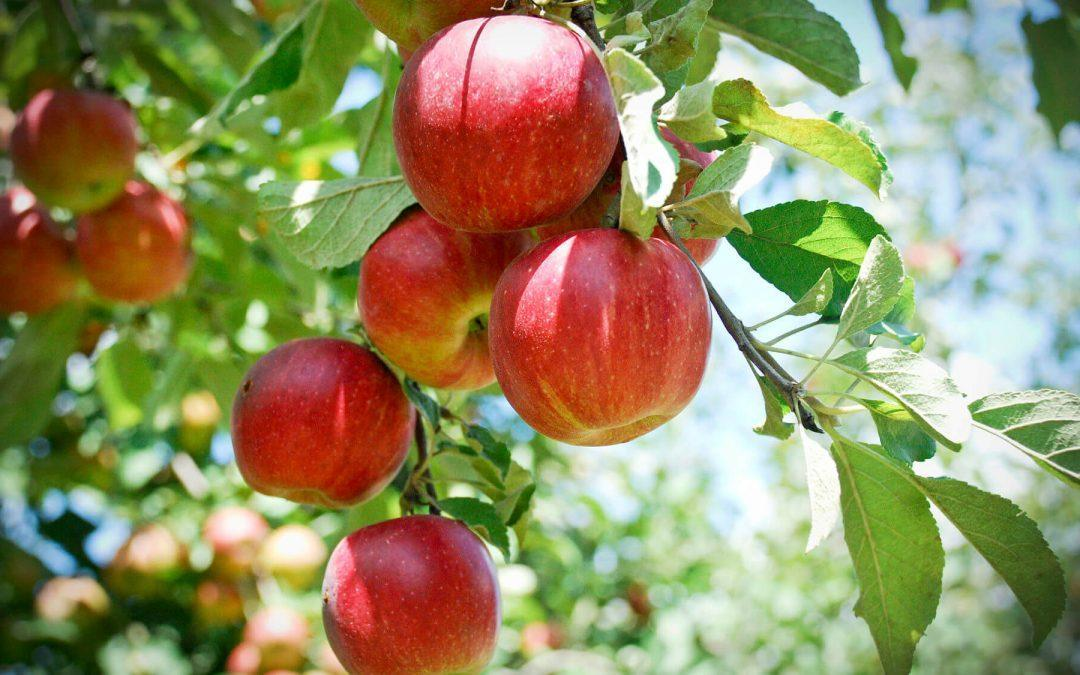apple: (487, 224, 711, 446), (394, 10, 614, 234), (355, 203, 554, 397), (227, 334, 415, 510), (317, 513, 504, 671), (4, 82, 139, 215)
